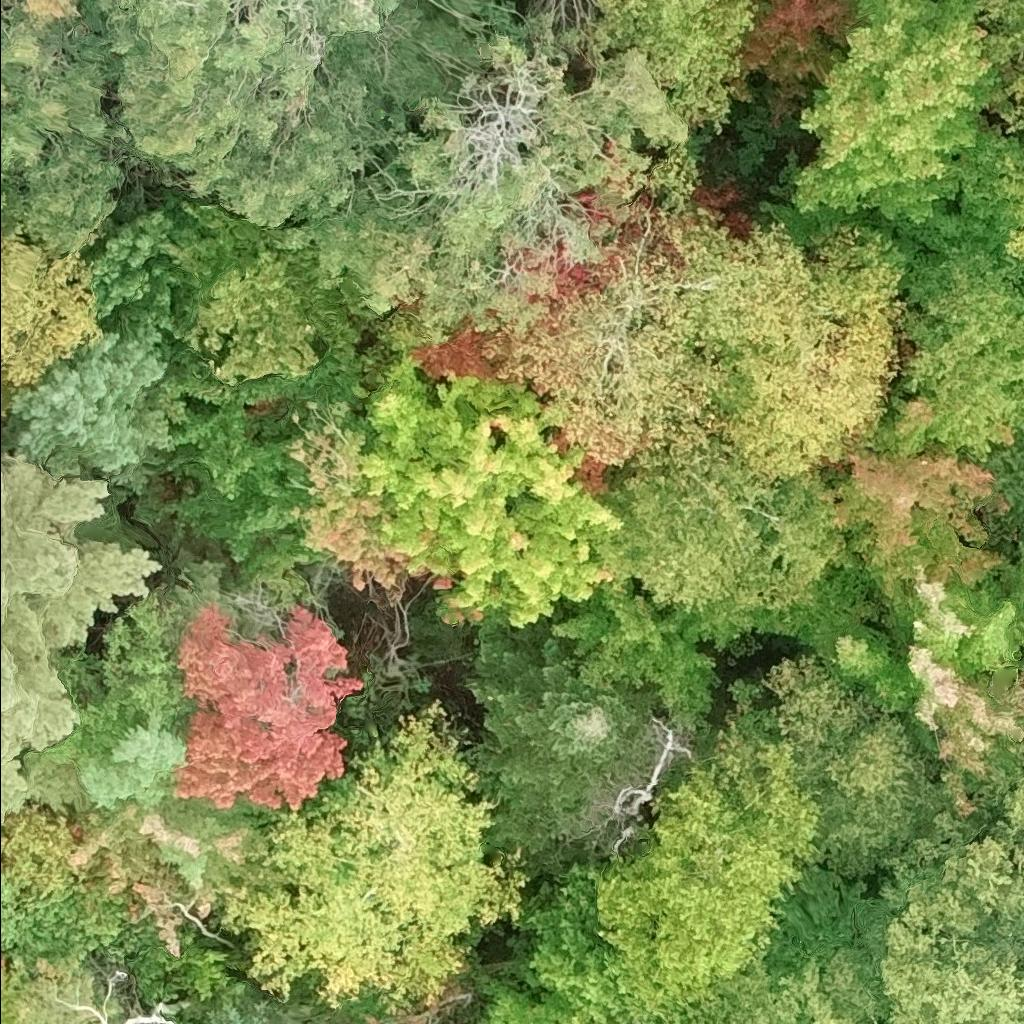crown: (274, 7, 650, 342), (102, 0, 526, 232), (218, 701, 530, 1013), (296, 361, 628, 626), (663, 208, 901, 488), (689, 662, 962, 879), (0, 449, 156, 819), (489, 249, 728, 474), (596, 793, 818, 1012), (795, 0, 1008, 223), (593, 424, 839, 617), (465, 623, 656, 861), (832, 583, 1023, 813), (167, 196, 373, 402), (169, 606, 360, 813), (827, 388, 1009, 601), (880, 777, 1023, 1023), (557, 575, 774, 727), (10, 317, 185, 491), (164, 396, 324, 586), (493, 867, 659, 1023), (907, 259, 1023, 453), (595, 0, 760, 131), (0, 232, 95, 421), (680, 947, 888, 1023), (730, 0, 858, 123), (47, 699, 188, 802), (0, 878, 121, 971), (618, 719, 689, 836), (4, 804, 76, 888), (69, 976, 179, 1023), (978, 0, 1023, 59), (1003, 153, 1023, 279), (202, 1001, 271, 1023), (0, 121, 14, 181), (391, 1008, 441, 1023), (1012, 82, 1023, 143), (367, 1014, 386, 1023), (0, 189, 4, 218), (0, 958, 2, 966)
